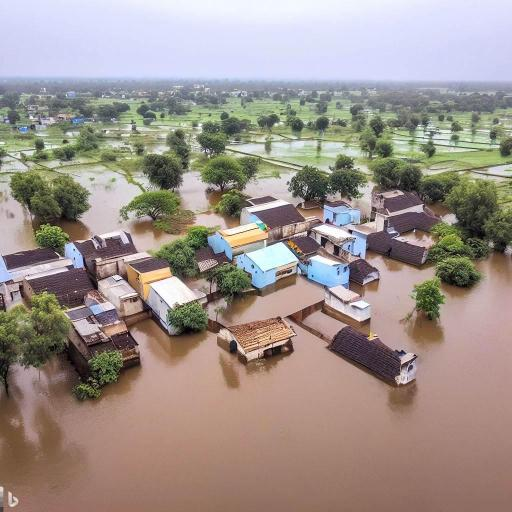flood: (0, 253, 512, 512), (56, 162, 174, 251), (218, 275, 348, 342), (0, 134, 168, 173), (228, 140, 370, 173), (176, 170, 240, 228), (0, 174, 38, 254), (244, 162, 302, 204), (464, 164, 512, 181), (352, 181, 375, 216), (395, 140, 418, 156), (136, 124, 176, 130), (103, 123, 132, 130)
house: (326, 326, 418, 392), (62, 302, 136, 382), (0, 246, 76, 308), (230, 195, 316, 248), (215, 315, 297, 367), (146, 273, 204, 335), (239, 242, 299, 291), (83, 225, 139, 271), (126, 254, 172, 306), (207, 222, 268, 261), (373, 188, 431, 226), (323, 284, 373, 323), (311, 222, 358, 256), (305, 250, 345, 287), (388, 237, 430, 267), (323, 197, 361, 227), (346, 257, 380, 288), (194, 248, 224, 276), (367, 230, 399, 256)
